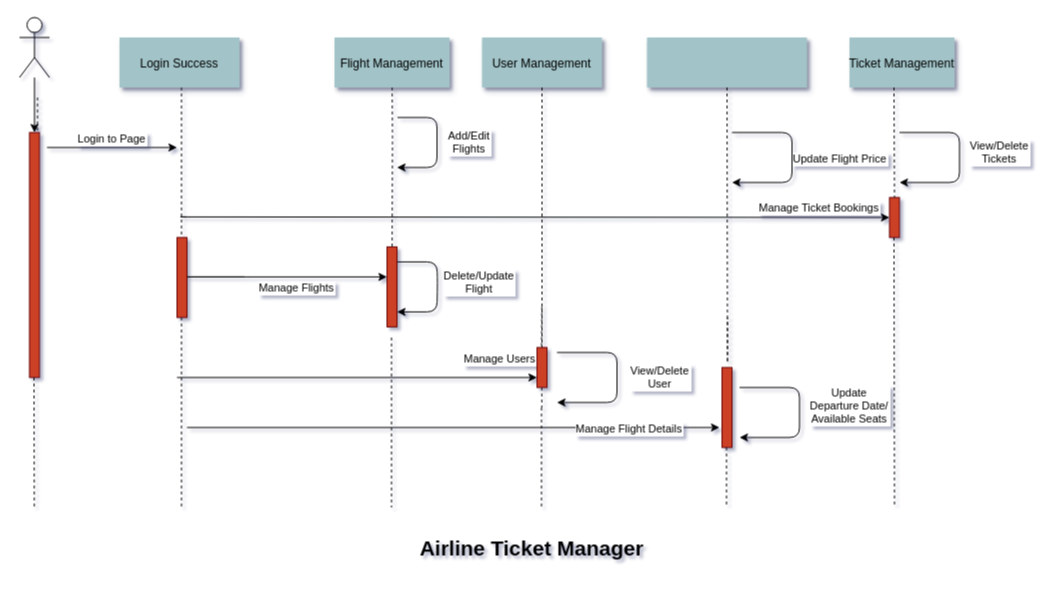
Image size: 1053x601. Some labels were removed from this diagram. Each missing label, with the centre of its shape:
"Admin" goes at pixel 34 47.
"Flight Details Management" goes at pixel 727 63.
